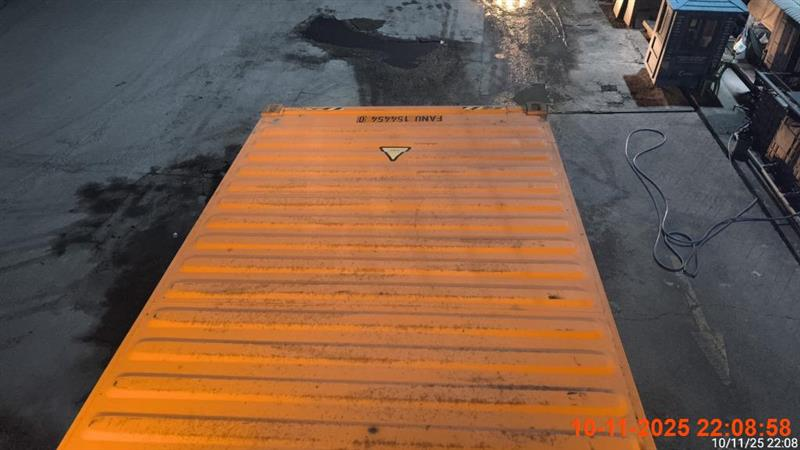hole: (58, 104, 655, 442)
